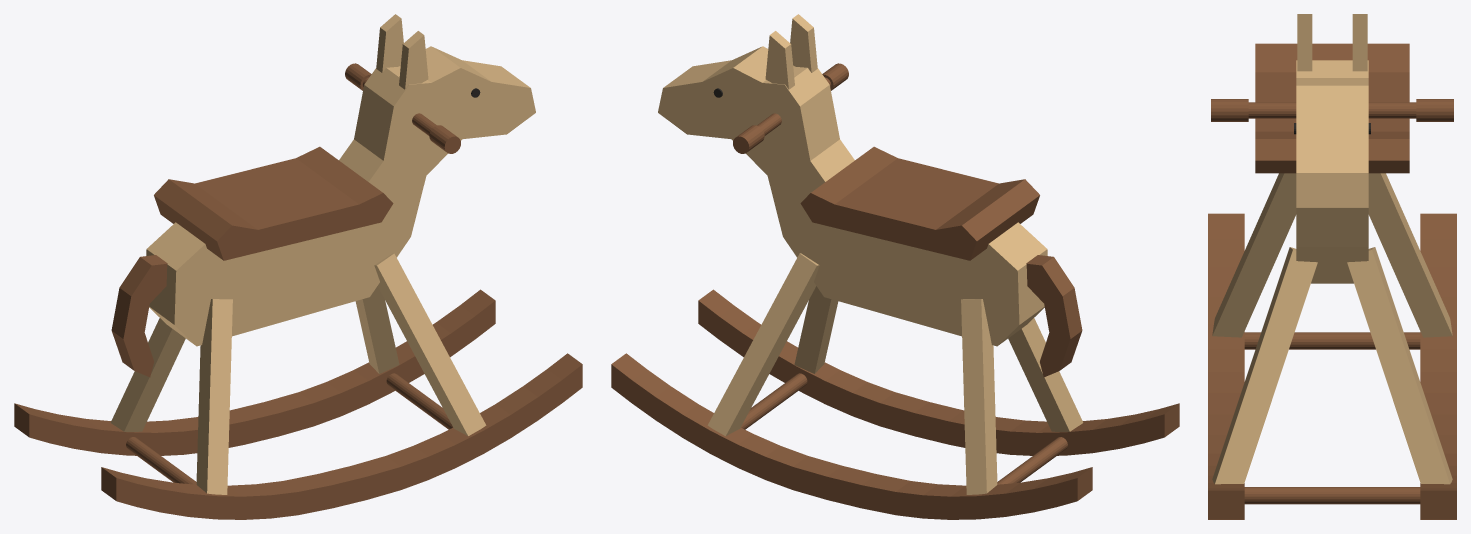
3 views of the same model, side by side, from view 1: azimuth 30°, elevation 25°; view 2: azimuth 150°, elevation 25°; view 3: azimuth 270°, elevation 25° (orthographic). The views are drawn at different scales.
Visible parts, largest first — view 1: WholeSawnHorseBodyNeckAndMuzzle, WholeGroundFootCurvedRunner_Near, WholeShapedStraddleSaddle, WholeGroundFootCurvedRunner_Far, WholeSplayedLeg_HindNear, WholeSplayedLeg_ForeNear, WholeCurvedBoardTail, WholeSplayedLeg_HindFar, WholeSplayedLeg_ForeFar, WholeUprightEar_Near, WholeUprightEar_Far, WholeLowTransverseRunnerTie_1 (+1 smaller); view 2: WholeSawnHorseBodyNeckAndMuzzle, WholeGroundFootCurvedRunner_Far, WholeShapedStraddleSaddle, WholeGroundFootCurvedRunner_Near, WholeSplayedLeg_HindFar, WholeSplayedLeg_ForeFar, WholeCurvedBoardTail, WholeSplayedLeg_HindNear, WholeSplayedLeg_ForeNear, WholeUprightEar_Far, WholeUprightEar_Near, WholeLowTransverseRunnerTie_1 (+1 smaller); view 3: WholeSawnHorseBodyNeckAndMuzzle, WholeShapedStraddleSaddle, WholeGroundFootCurvedRunner_Near, WholeGroundFootCurvedRunner_Far, WholeSplayedLeg_ForeNear, WholeSplayedLeg_ForeFar, WholeSplayedLeg_HindNear, WholeSplayedLeg_HindFar, WholeLowTransverseRunnerTie_1, WholeLowTransverseRunnerTie_0, WholeTransverseHeadHandle, WholeUprightEar_Near (+3 smaller).
Boxes of the visible parts, <box> form: WholeSawnHorseBodyNeckAndMuzzle: <box>146,46,535,346</box>; WholeGroundFootCurvedRunner_Near: <box>101,353,582,519</box>; WholeShapedStraddleSaddle: <box>154,146,393,260</box>; WholeGroundFootCurvedRunner_Far: <box>14,289,495,455</box>; WholeSplayedLeg_HindNear: <box>196,299,232,494</box>; WholeSplayedLeg_ForeNear: <box>374,253,486,436</box>; WholeCurvedBoardTail: <box>111,255,167,377</box>; WholeSplayedLeg_HindFar: <box>110,318,185,431</box>; WholeSplayedLeg_ForeFar: <box>355,286,399,373</box>; WholeUprightEar_Near: <box>399,31,428,89</box>; WholeUprightEar_Far: <box>376,14,403,72</box>; WholeLowTransverseRunnerTie_1: <box>386,373,452,429</box>; WholeSawnHorseBodyNeckAndMuzzle: <box>658,46,1047,346</box>; WholeGroundFootCurvedRunner_Far: <box>611,353,1092,519</box>; WholeShapedStraddleSaddle: <box>800,146,1039,260</box>; WholeGroundFootCurvedRunner_Near: <box>698,289,1179,455</box>; WholeSplayedLeg_HindFar: <box>961,299,997,494</box>; WholeSplayedLeg_ForeFar: <box>707,253,819,436</box>; WholeCurvedBoardTail: <box>1026,255,1082,377</box>; WholeSplayedLeg_HindNear: <box>1008,318,1083,431</box>; WholeSplayedLeg_ForeNear: <box>794,286,838,373</box>; WholeUprightEar_Far: <box>765,31,794,89</box>; WholeUprightEar_Near: <box>790,14,817,72</box>; WholeLowTransverseRunnerTie_1: <box>741,373,807,429</box>; WholeSawnHorseBodyNeckAndMuzzle: <box>1296,60,1368,283</box>; WholeShapedStraddleSaddle: <box>1255,43,1409,173</box>; WholeGroundFootCurvedRunner_Near: <box>1208,213,1244,519</box>; WholeGroundFootCurvedRunner_Far: <box>1420,213,1456,519</box>; WholeSplayedLeg_ForeNear: <box>1212,247,1317,484</box>; WholeSplayedLeg_ForeFar: <box>1347,247,1452,484</box>; WholeSplayedLeg_HindNear: <box>1212,173,1296,337</box>; WholeSplayedLeg_HindFar: <box>1368,173,1452,337</box>; WholeLowTransverseRunnerTie_1: <box>1244,487,1420,504</box>; WholeLowTransverseRunnerTie_0: <box>1244,332,1420,349</box>; WholeTransverseHeadHandle: <box>1248,102,1416,118</box>; WholeUprightEar_Near: <box>1297,14,1312,71</box>.
Size of the model in its own units: 1.36 by 1.16 by 0.516.
